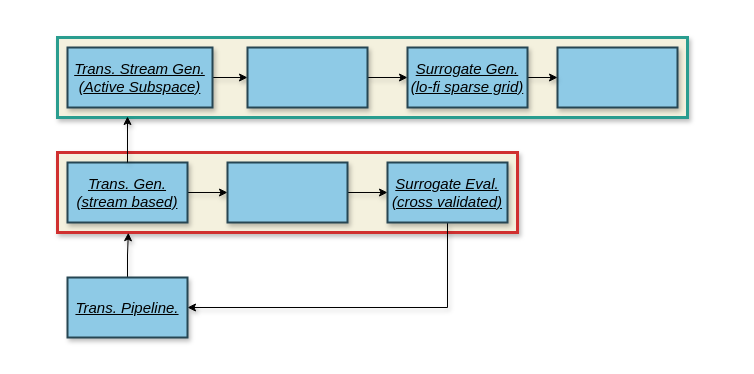
Some shapes in this 754 by 374 pixel diagram are drawn without their labels. The shapes that lost their labels are listed below. From the top down, each one's centre as x and y in pixels, then its label:
At (308,78): "Trans. Eval. (forward looking)".
At (618,78): "Surrogate Eval. (simple split)".
At (288,193): "Surrogate Gen. (hi-fi sparse grid)".
